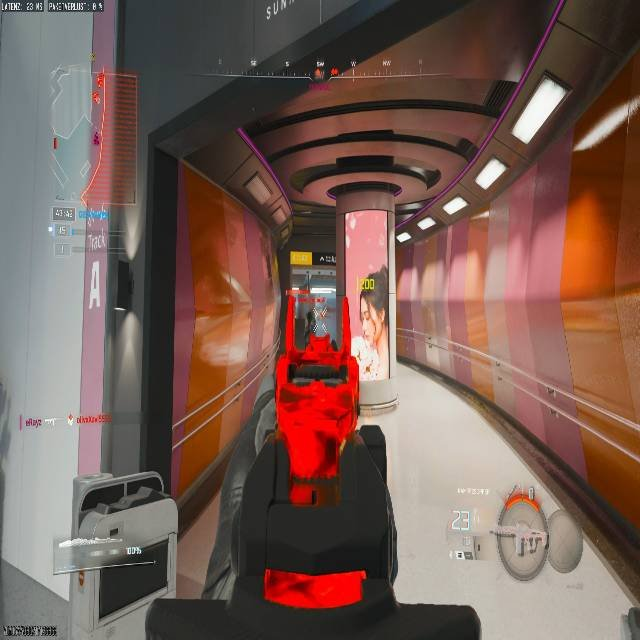player: (355, 272, 386, 377), (305, 309, 316, 342)
